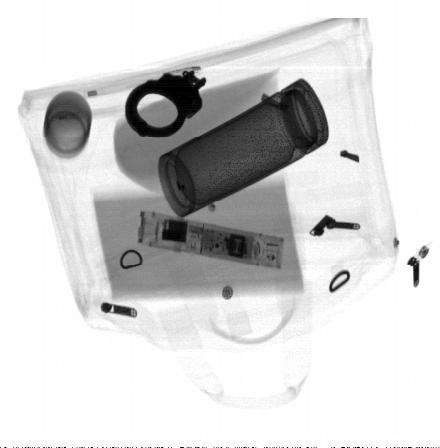Baton: (137, 209, 284, 269)
HandCuffs: (125, 68, 208, 138)
